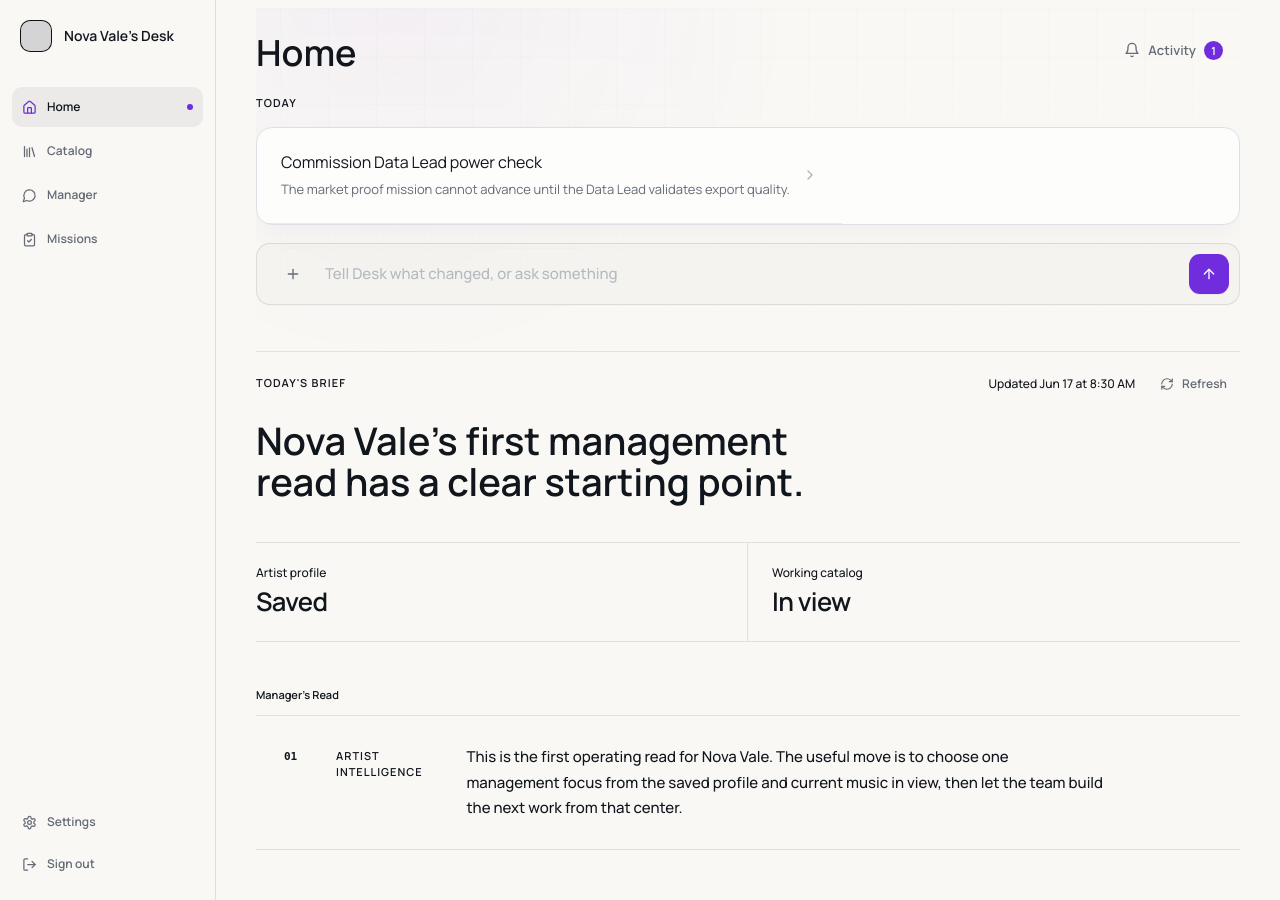
Clean production prototype-match shell › keeps Desk HQ movement compact and moves older activity into history
expect the heading "Home" is shown: met, box [256, 34, 356, 72]
expect the element with test id "desk-today-execution" shows "Today": met, box [256, 95, 297, 110]
Click the button with aria-label "Open Activity Center". click: point(1174, 50)
box: [1107, 28, 1240, 72]
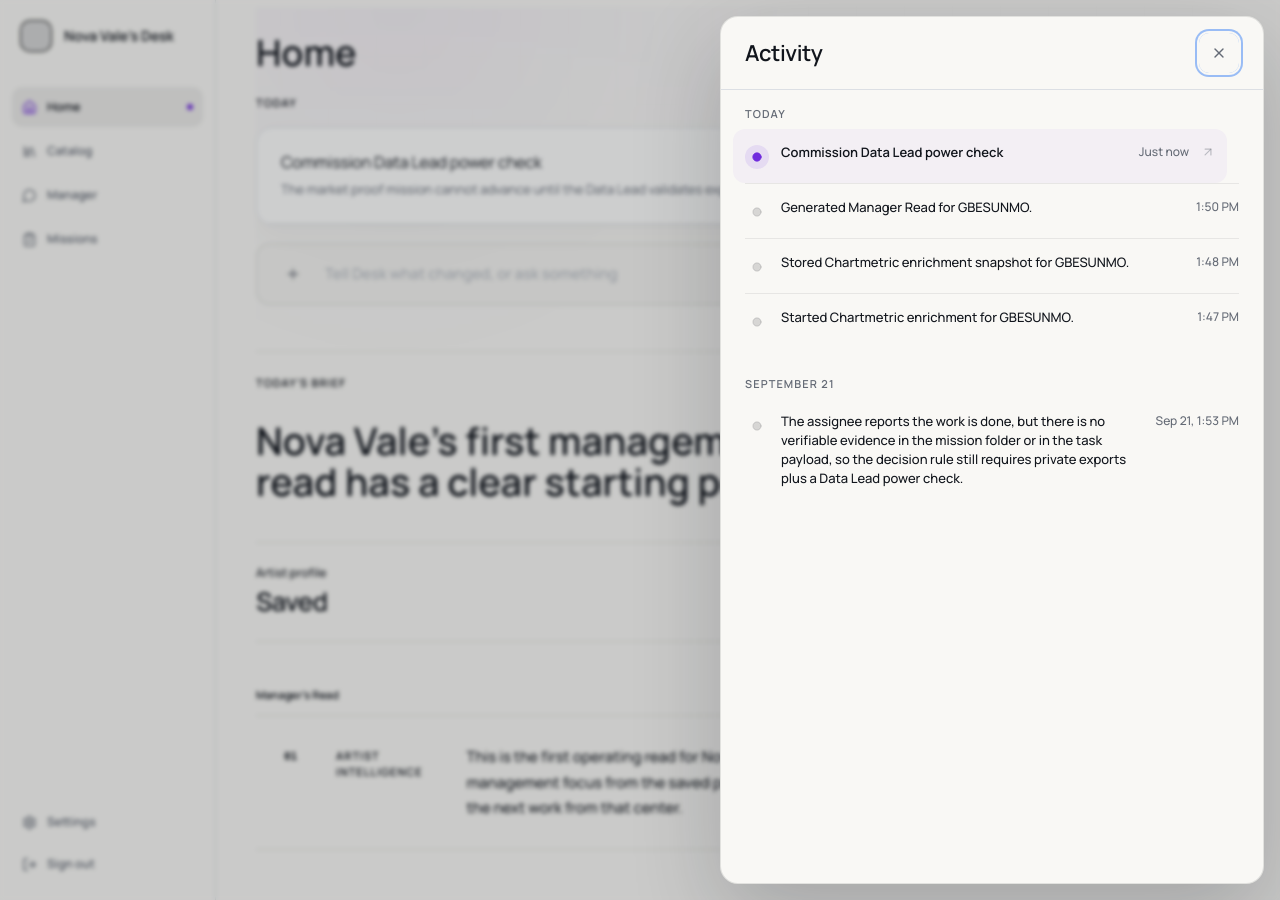
expect the dialog "Activity" does not show "Needs you": met, box [720, 16, 1264, 884]
expect the dialog "Activity" shows "The assignee reports the work is done, but there is no verifiable evidence in the mission folder or in the task payload, so the decision rule still requires pri": met, box [781, 412, 1126, 486]
expect the dialog "Activity" shows "Started Chartmetric enrichment for GBESUNMO.": met, box [781, 308, 1074, 326]
